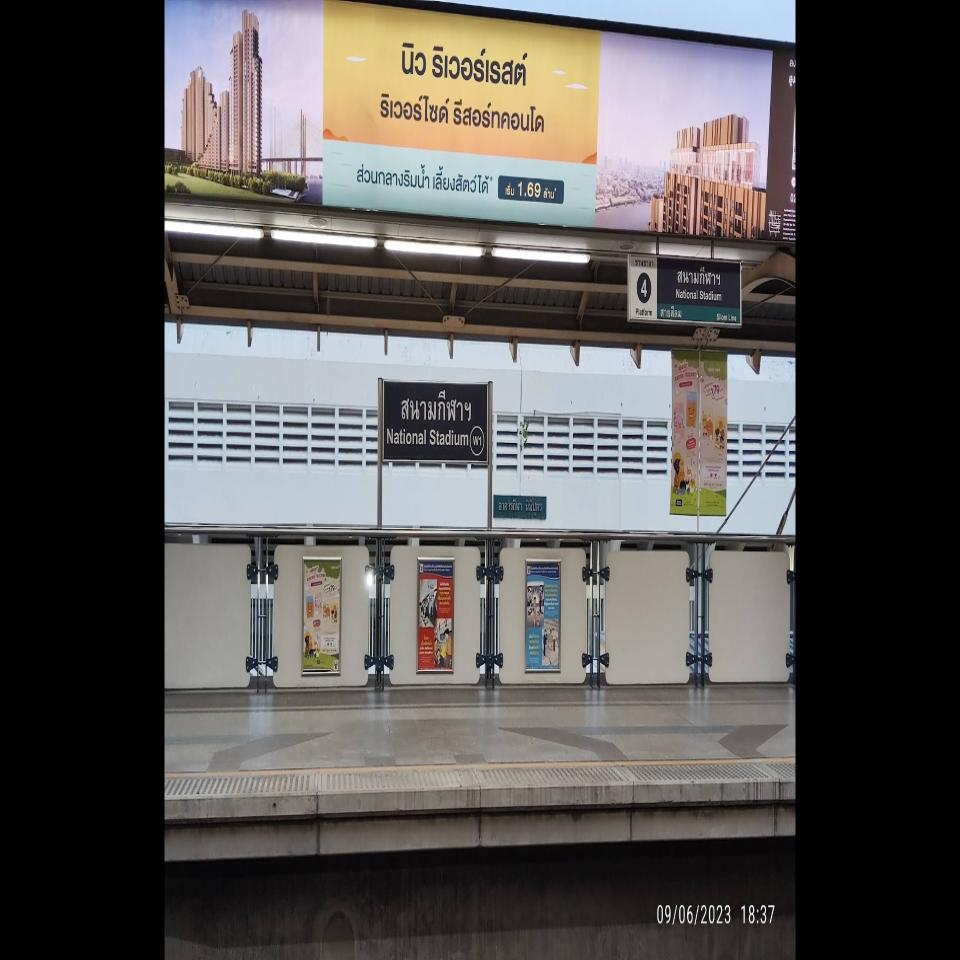signage: (382, 379, 489, 465), (676, 255, 722, 324)
